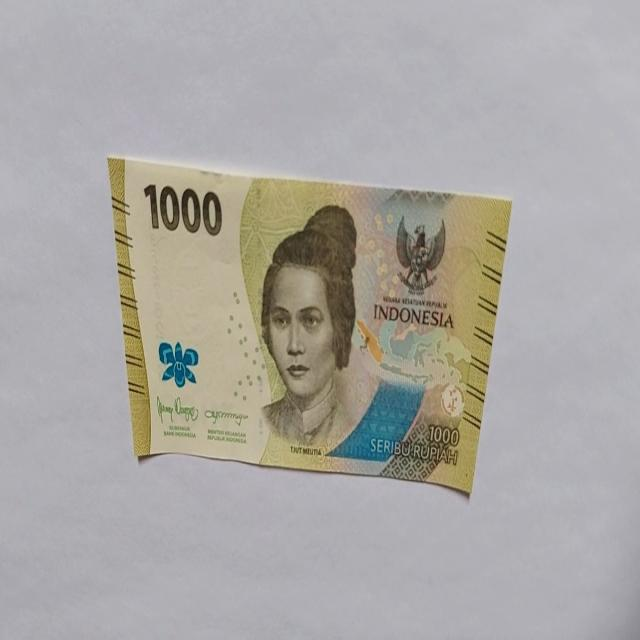seribu rupiah kertas: (106, 153, 512, 495)
